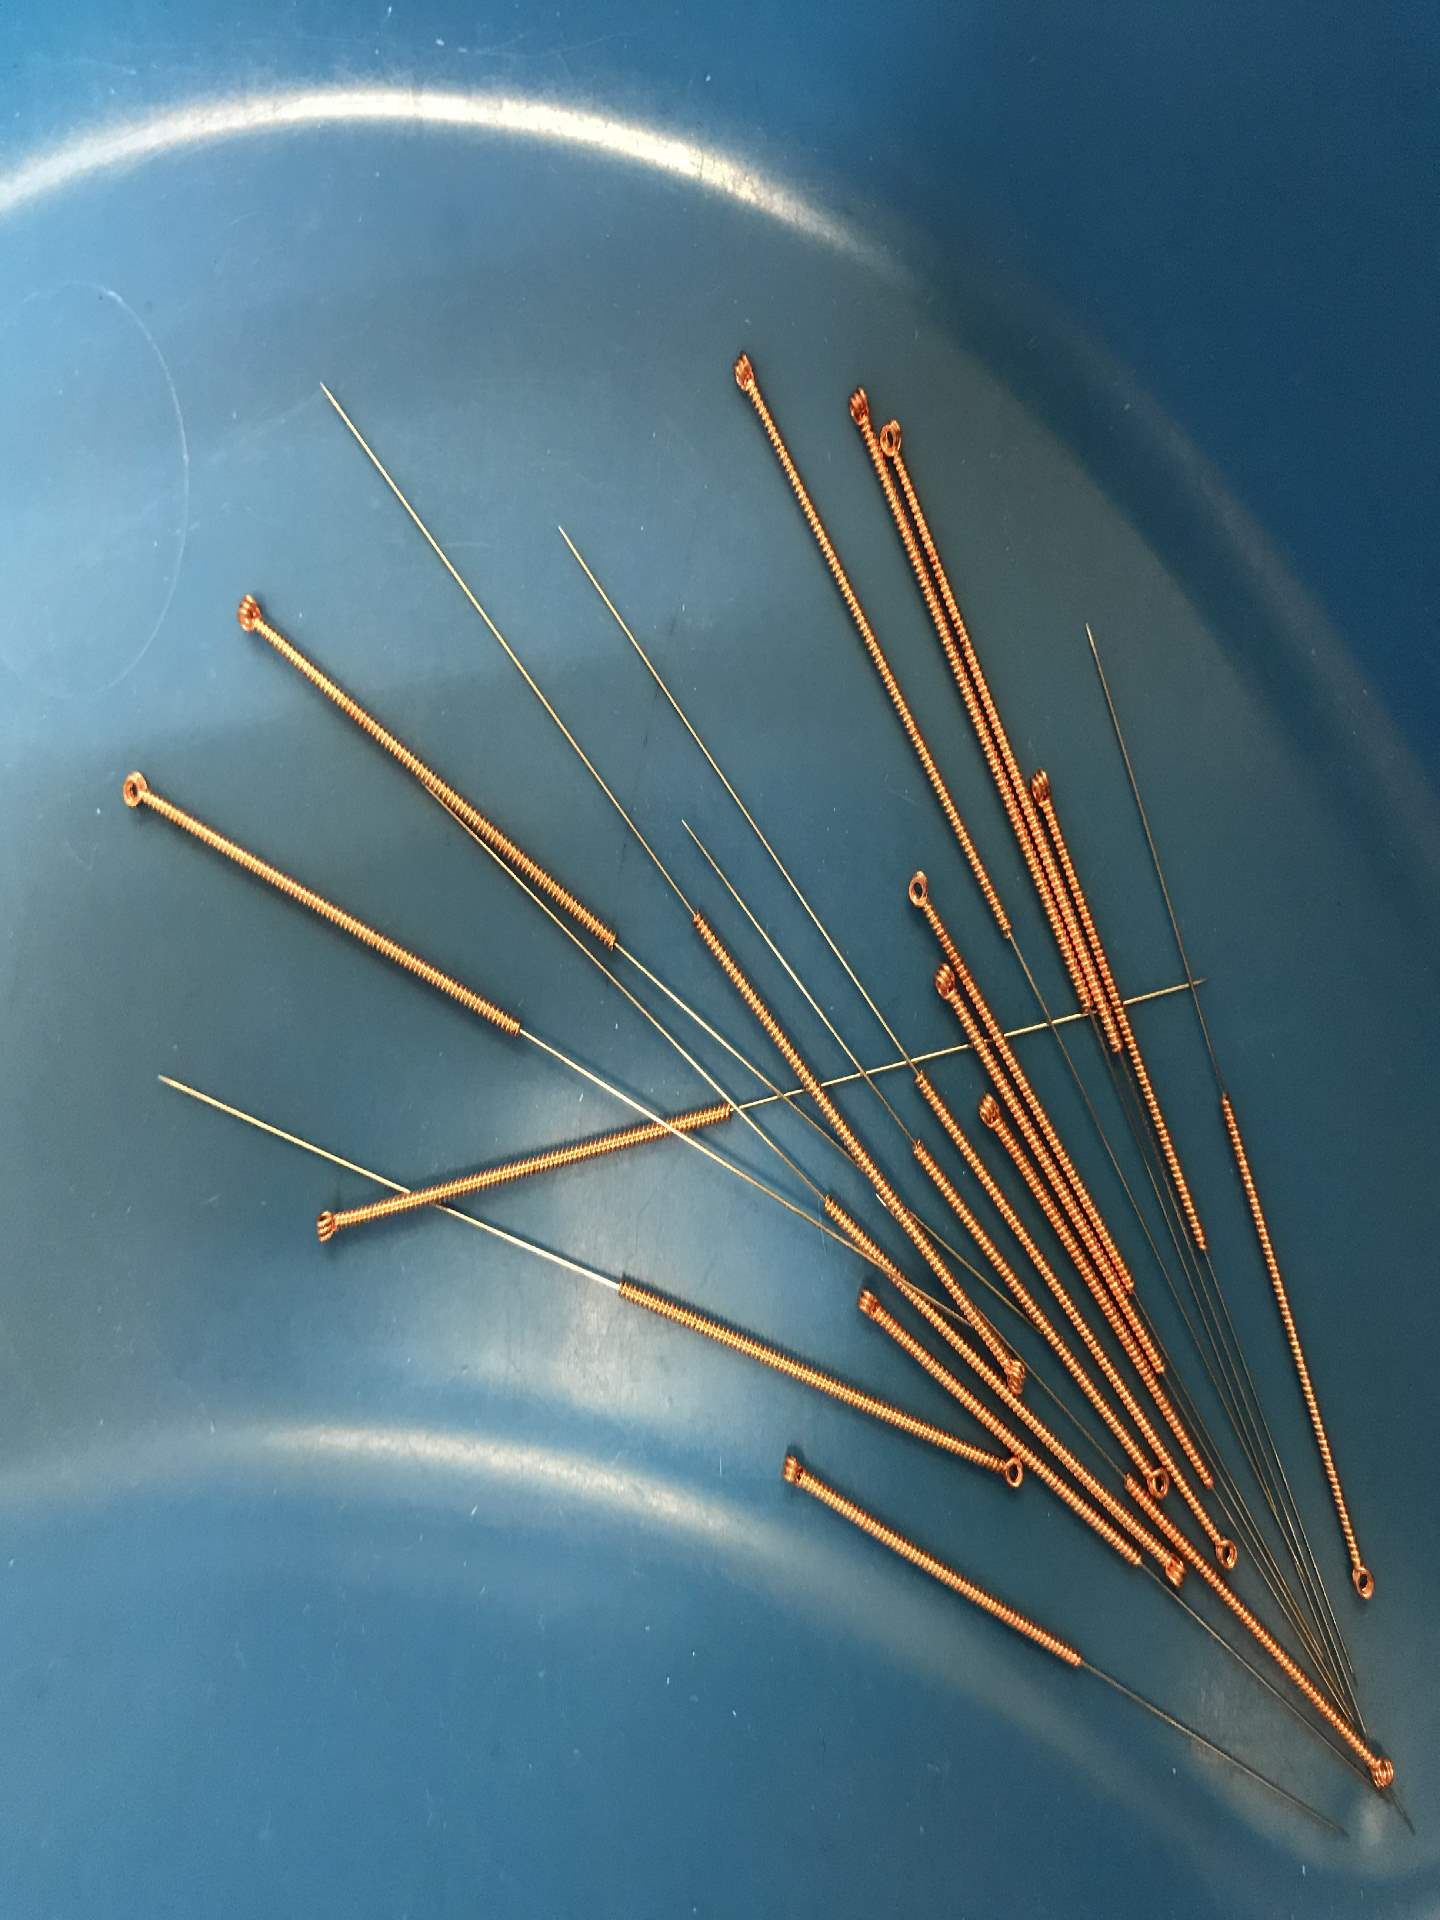needle: (106, 760, 163, 815), (768, 1441, 818, 1500), (722, 339, 762, 407), (225, 584, 272, 643), (1342, 1548, 1384, 1612), (900, 865, 941, 928), (836, 372, 874, 432), (307, 1197, 349, 1250), (847, 1279, 889, 1330), (1358, 1748, 1401, 1798), (1207, 1522, 1243, 1572), (998, 1342, 1032, 1397), (983, 1451, 1026, 1494), (874, 414, 906, 470), (929, 955, 961, 1008), (970, 1084, 1001, 1135), (1029, 763, 1054, 813), (1160, 1550, 1189, 1593), (1144, 1462, 1171, 1504)
